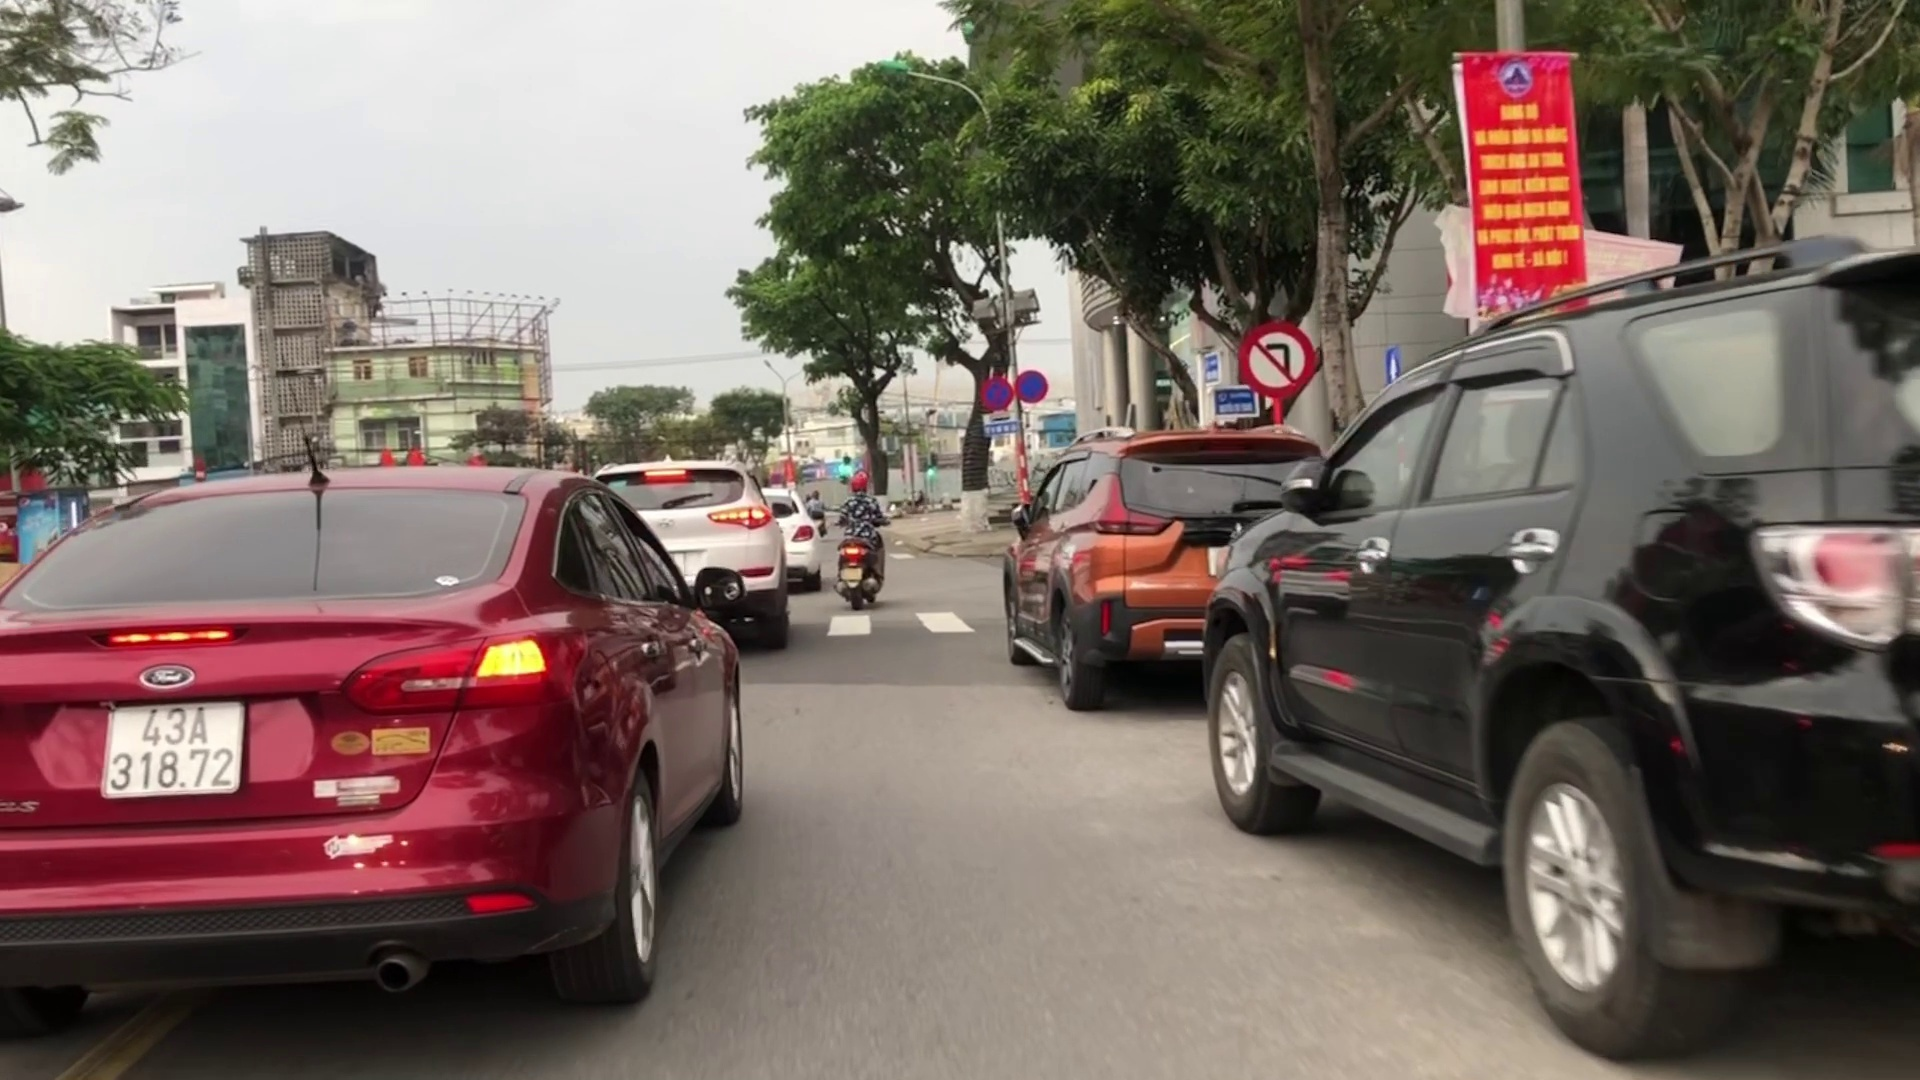Bien khac: (1240, 326, 1303, 394), (978, 375, 1011, 413)
Cam do xe: (1017, 364, 1047, 404)
